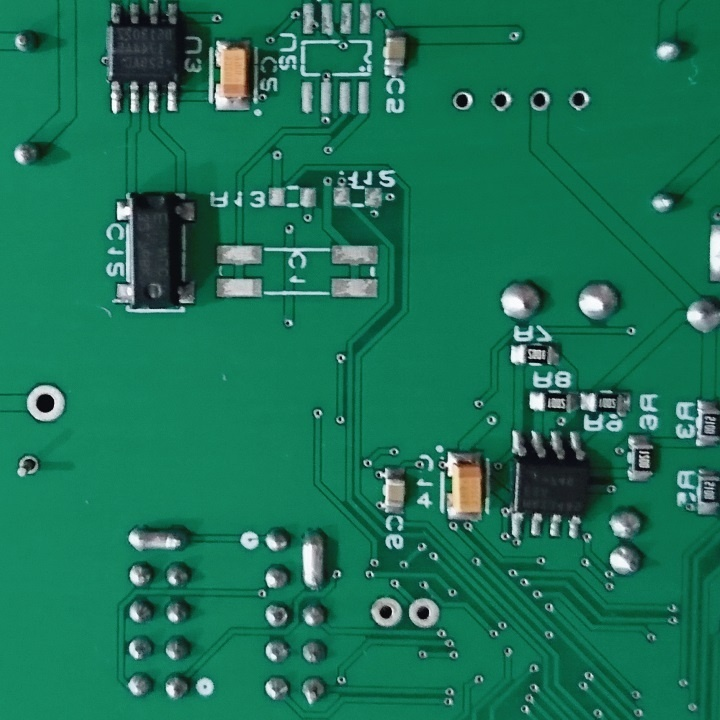F: (21, 382, 70, 429), (366, 594, 405, 631), (405, 595, 438, 631), (13, 451, 40, 481), (527, 89, 553, 115), (447, 89, 474, 112), (487, 89, 514, 112), (567, 89, 593, 112)
P: (124, 521, 193, 553), (300, 525, 326, 595)
